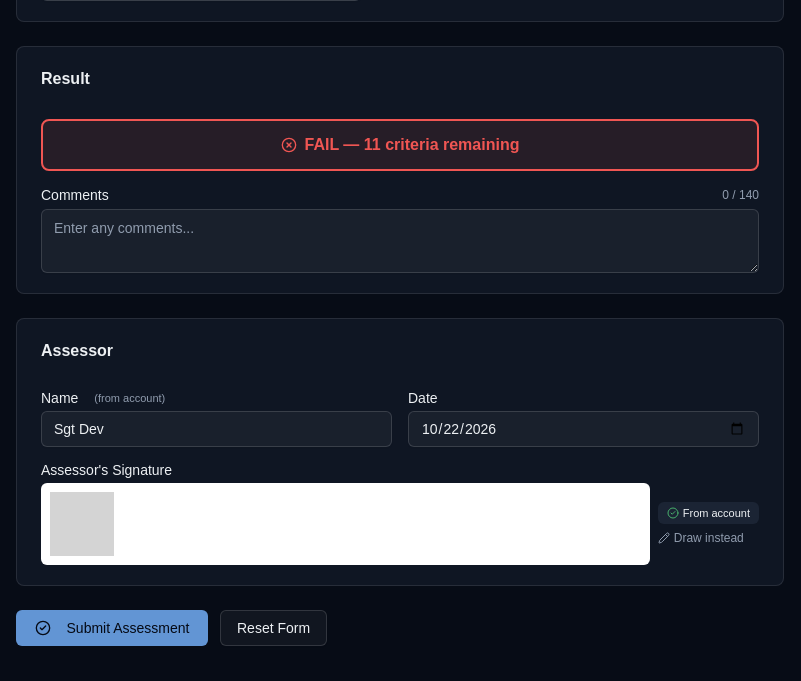
it: radio assessment: submitting › a refusal from the server is shown and nothing is queued
(page scrolled)
Click the button "Submit Assessment".
click(112, 628)  # box [16,610,208,646]
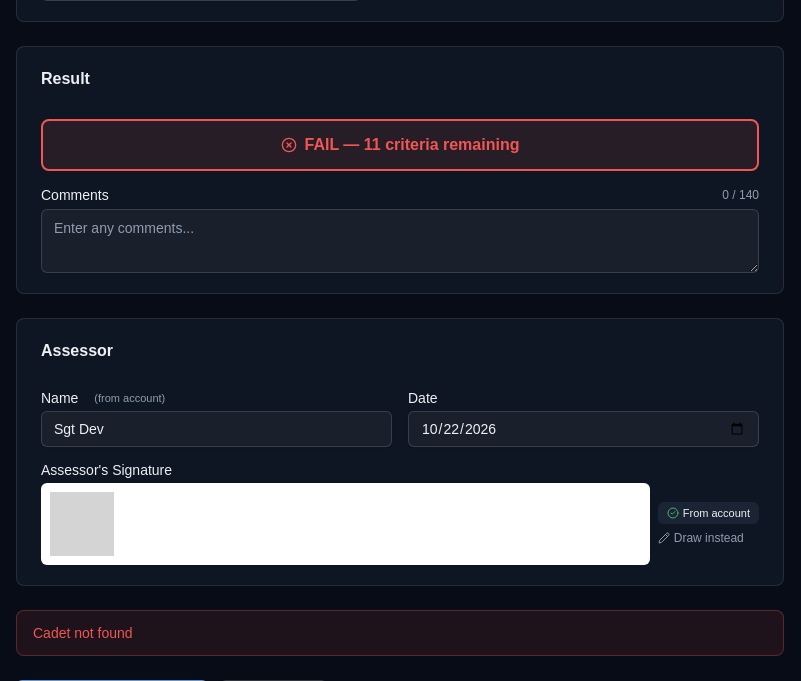
Expected: the text "Cadet not found" is shown, [16,610,784,656]
